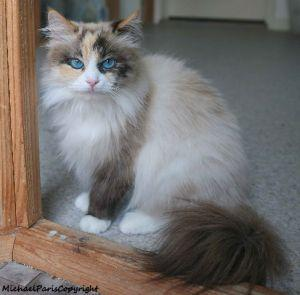ragdoll: (42, 3, 148, 114)
